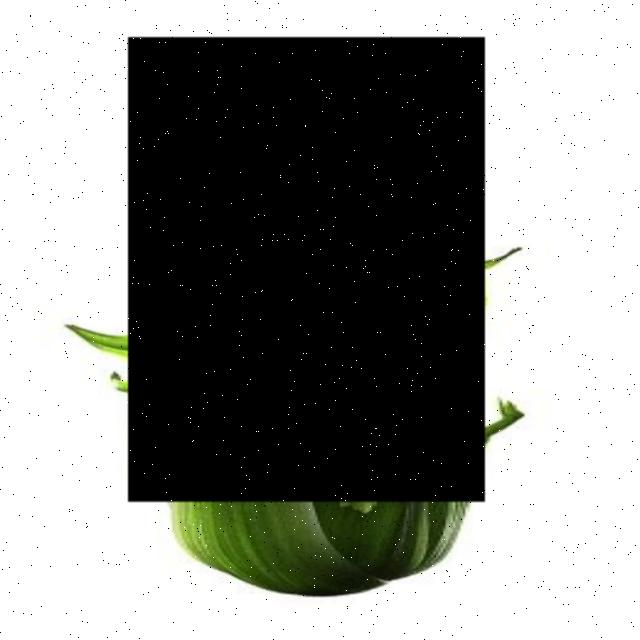Corn: (128, 37, 485, 502)
